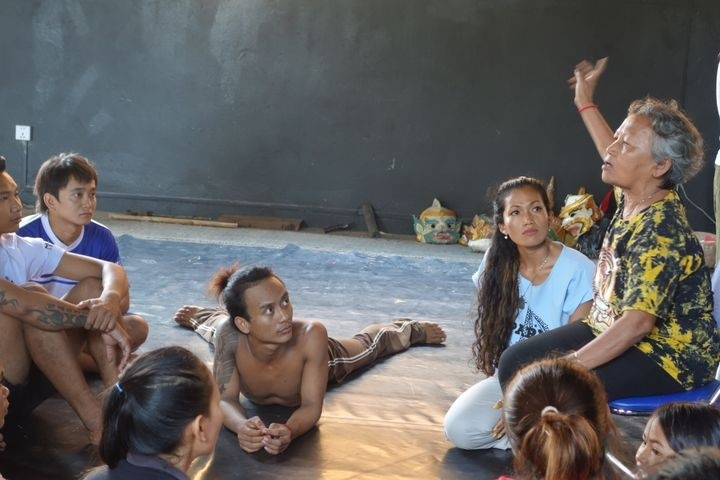face_no_mask: (127, 349, 223, 457), (603, 104, 705, 197), (633, 404, 719, 472), (223, 269, 295, 345), (493, 175, 552, 246), (37, 157, 96, 226), (0, 159, 23, 234)
